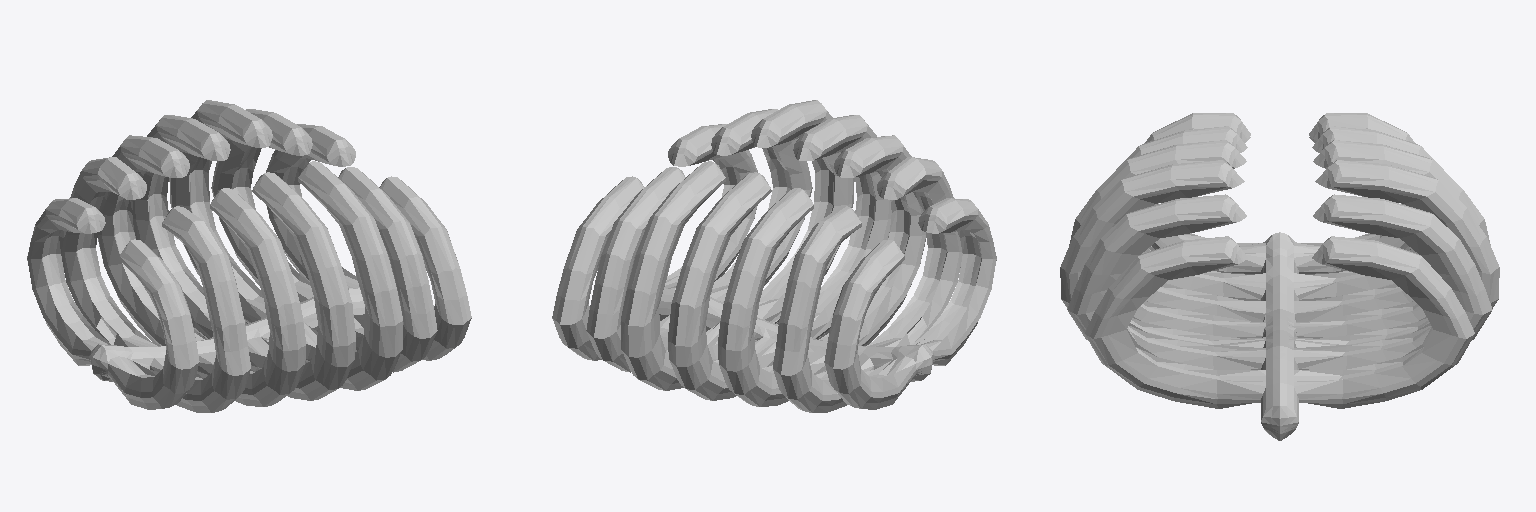
File: ribcage.obj
The picture shows the model from 3 angles: view 1: azimuth 30°, elevation 25°; view 2: azimuth 150°, elevation 25°; view 3: azimuth 270°, elevation 25°; orthographic projection.
Visible parts, largest first — view 1: ribcage:pCube16; view 2: ribcage:pCube16; view 3: ribcage:pCube16.
Part boxes in pixels (x1,y1,x2,y2): ribcage:pCube16: (27, 100, 471, 412); ribcage:pCube16: (552, 100, 996, 412); ribcage:pCube16: (1060, 113, 1499, 440).
Size of the model in its own units: 14.68 by 9.24 by 17.01.